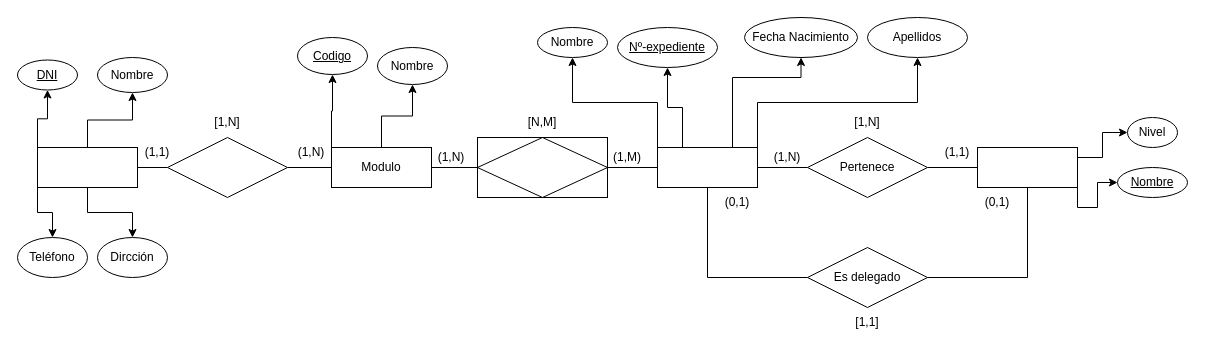
The diagram is 1205 pixels wide and 355 high, and some of its shapes have lost their labels. Here are the shapes that lost their labels. From the top down, the centre of each, then its label:
At point 87,167: "Profesor".
At point 227,167: "Imparte".
At point 542,167: "Matriculado".
At point 707,167: "Alumno".
At point 1027,167: "Grupo".
